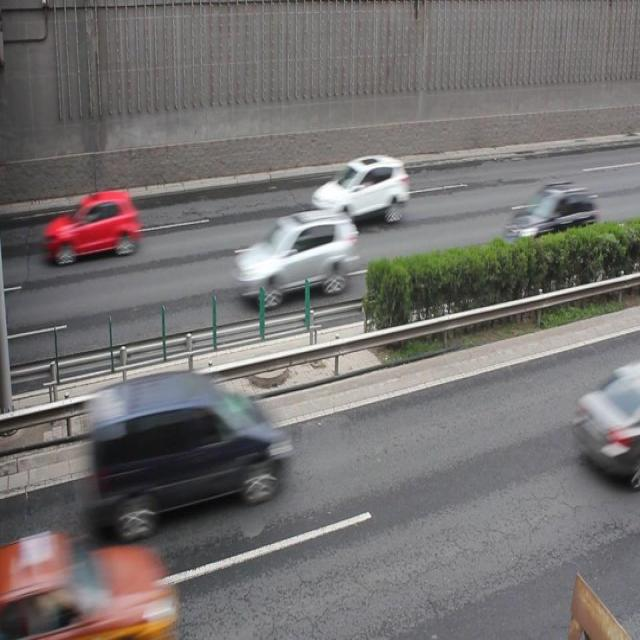car: (86, 368, 285, 532), (19, 528, 174, 640), (236, 207, 355, 307), (313, 152, 406, 226), (50, 187, 138, 262), (504, 182, 594, 255)
